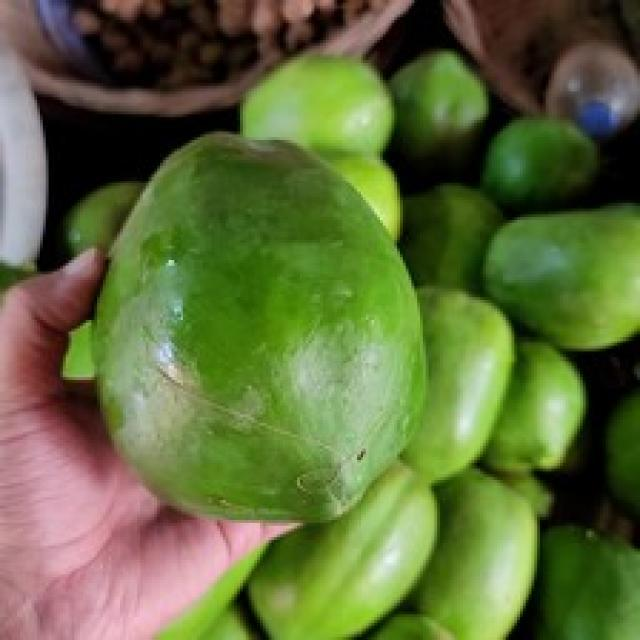Pepaya unrippen: (95, 123, 426, 518)
